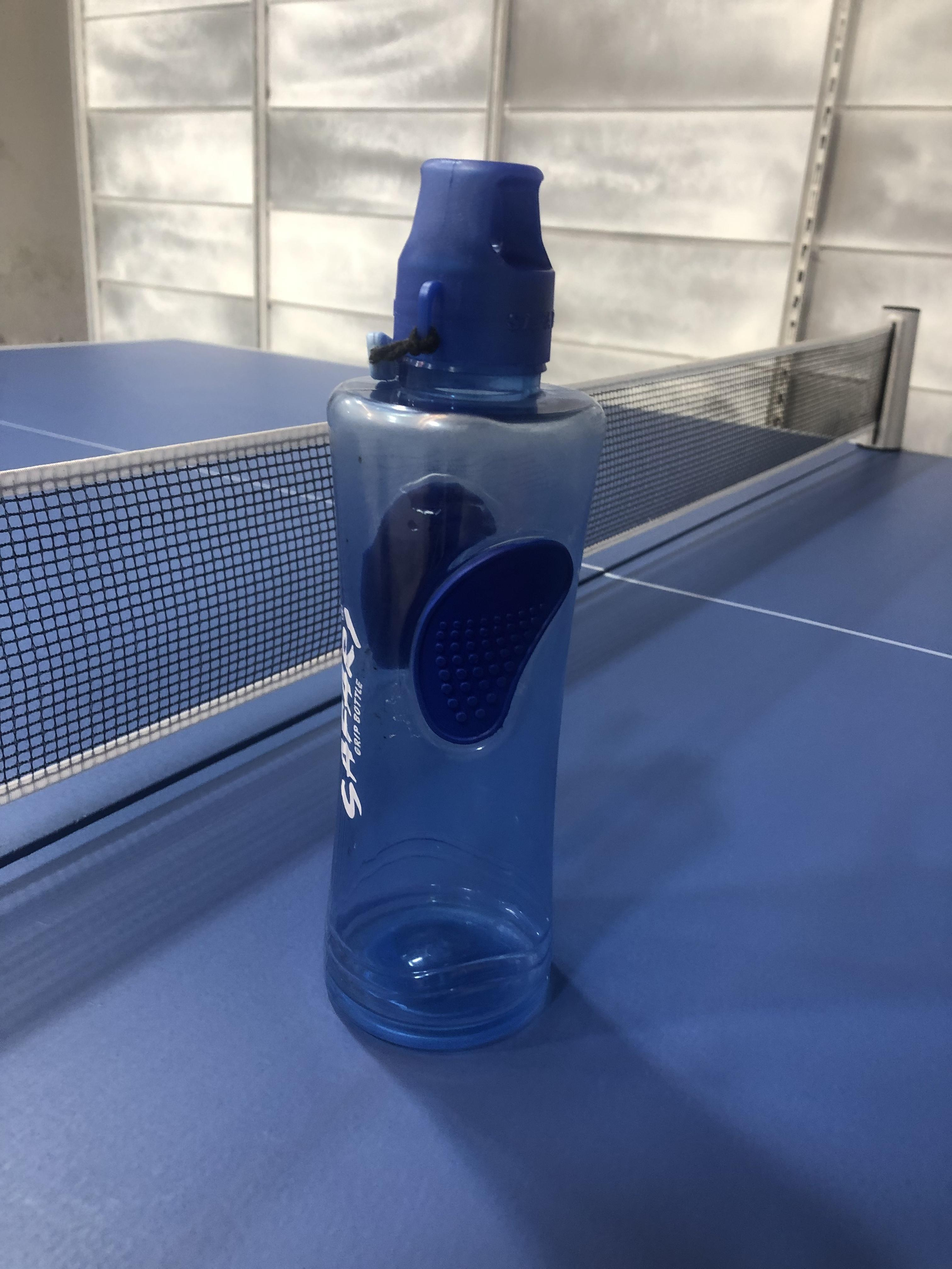gym bottle: (310, 145, 608, 1055)
